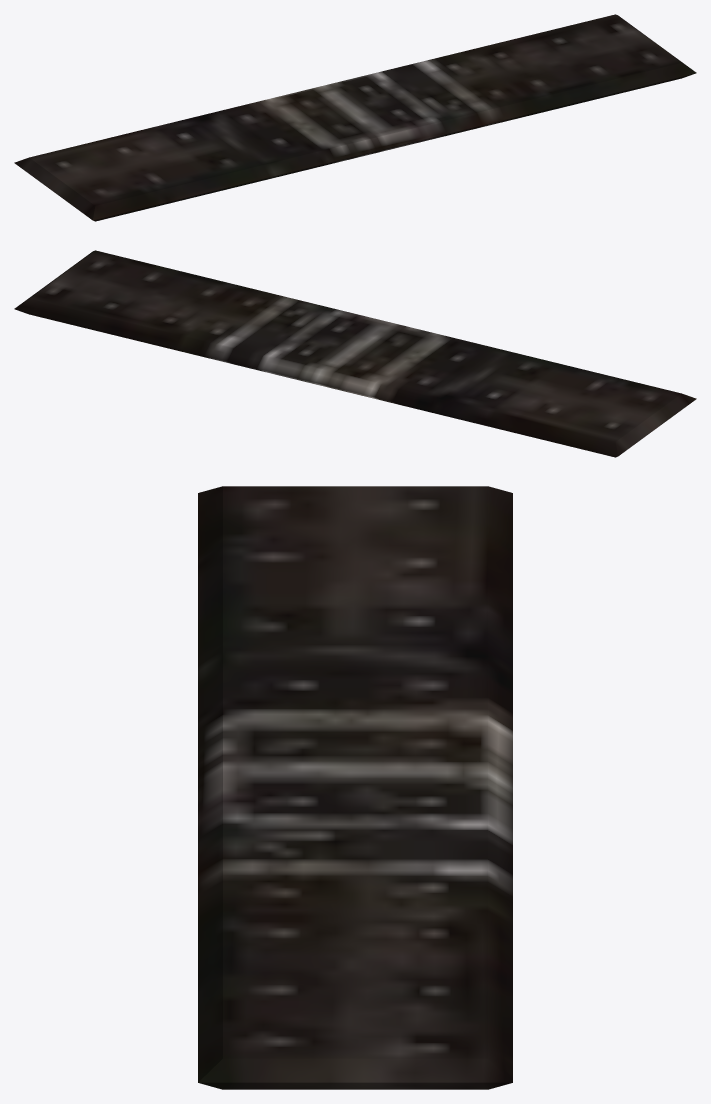
File: KM_BELT_17.glb
3 renders of one model, top to bottom at view 1: azimuth 30°, elevation 25°; view 2: azimuth 150°, elevation 25°; view 3: azimuth 270°, elevation 25°, orthographic. The views are drawn at different scales.
Visible parts, largest first — view 1: KM_BELT_17; view 2: KM_BELT_17; view 3: KM_BELT_17.
Part boxes in pixels (x1,y1,x2,y2): KM_BELT_17: (14, 14, 696, 221); KM_BELT_17: (14, 250, 696, 457); KM_BELT_17: (198, 486, 512, 1089).
Size of the model in its own units: 0.372 by 0.0092 by 0.084.
Materials: 1 (1 with a texture image).
